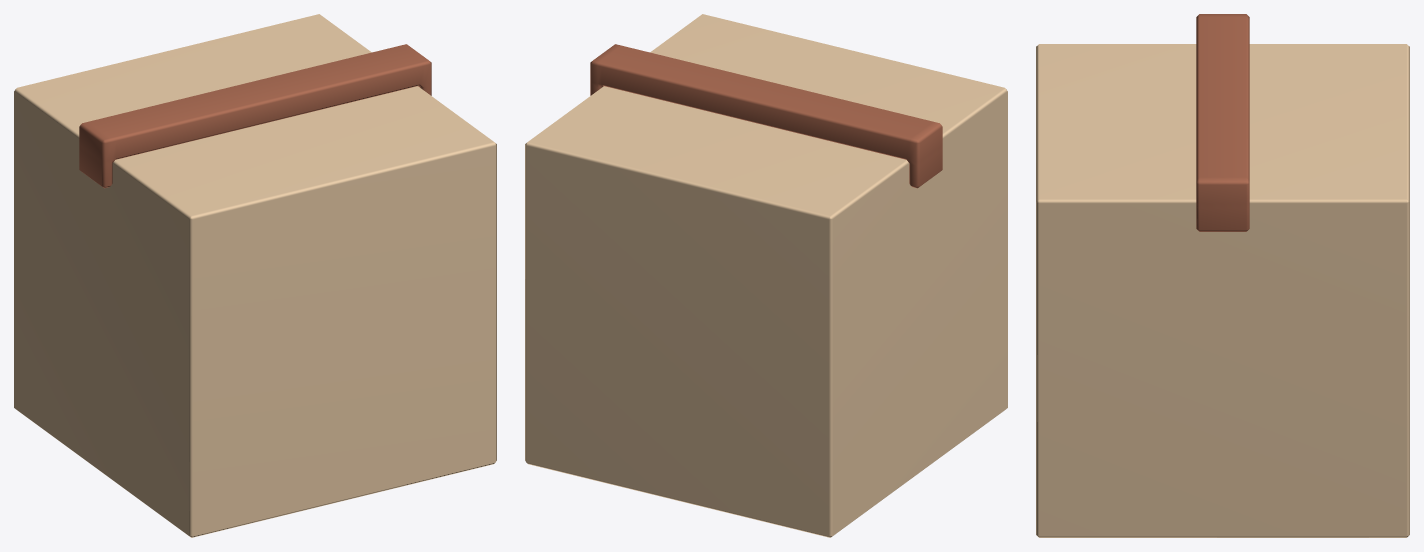
File: objeto interactuable 1.fbx
3 views of the same model, side by side, from view 1: azimuth 30°, elevation 25°; view 2: azimuth 150°, elevation 25°; view 3: azimuth 270°, elevation 25° (orthographic). The views are drawn at different scales.
Parts seen in each view (by area): view 1: polySurface2; view 2: polySurface2; view 3: polySurface2.
Part boxes in pixels (x1,y1,x2,y2): polySurface2: [14, 14, 496, 537]; polySurface2: [525, 14, 1007, 537]; polySurface2: [1036, 14, 1409, 537].
Bounding box in the file's own units: 23.5 × 23.5 × 21.93.
